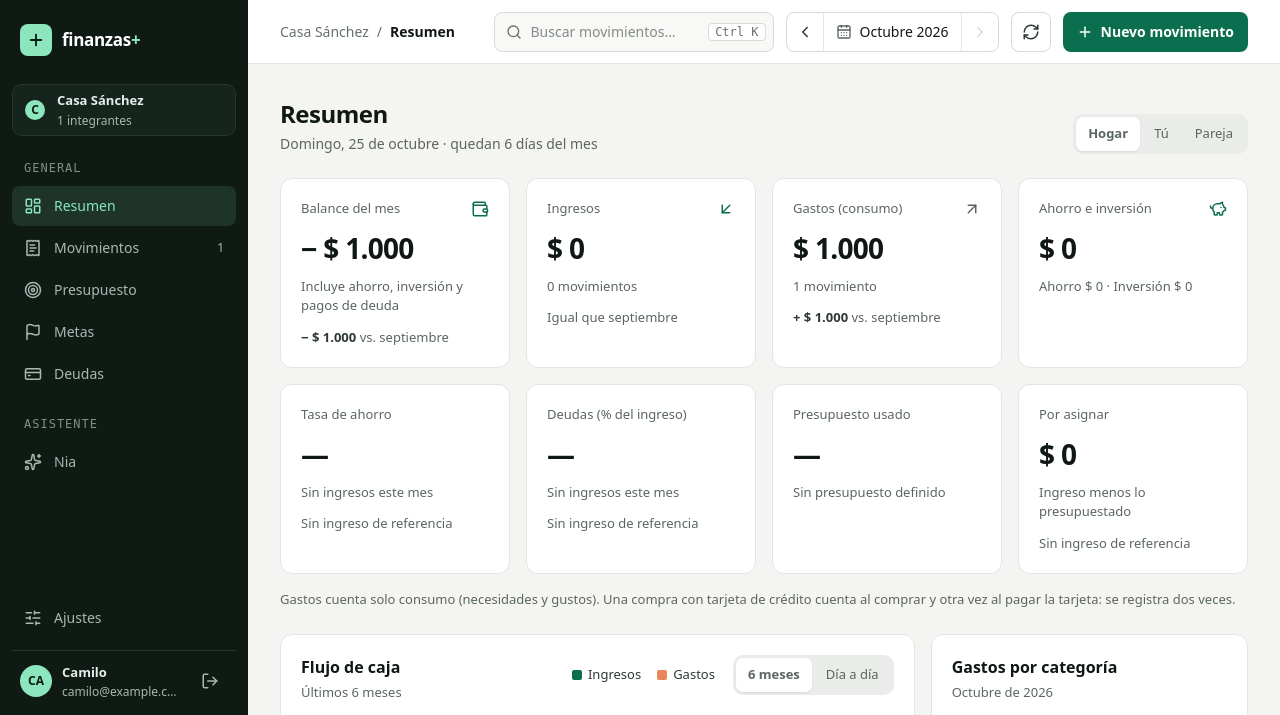
it: App Ajustes section › lazily opens Ajustes from the sidebar without the period switcher and reads the legal rates once
Expected: the heading "Resumen" is shown, [280,97,388,130]
Expected: the element named "Periodo" is shown, [786,12,998,52]
Click the button "Ajustes": click(124, 618) [12,598,236,638]
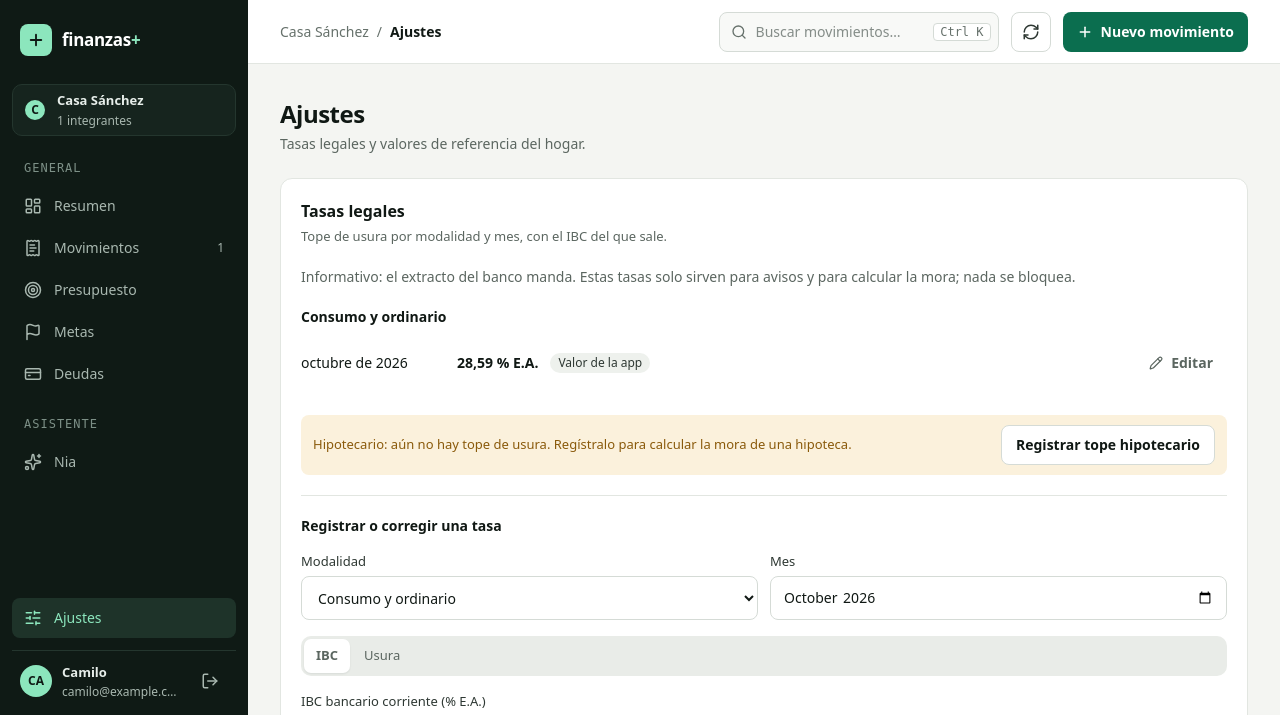
Expected: the heading "Ajustes" is shown, [280,97,365,130]
Expected: the element "Periodo" is gone
